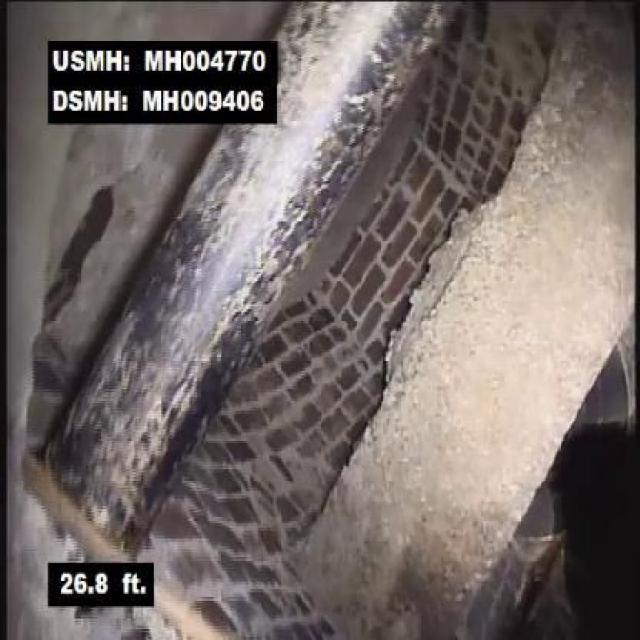Utility intrusion: (20, 328, 266, 560), (106, 160, 397, 332), (266, 1, 471, 156)
